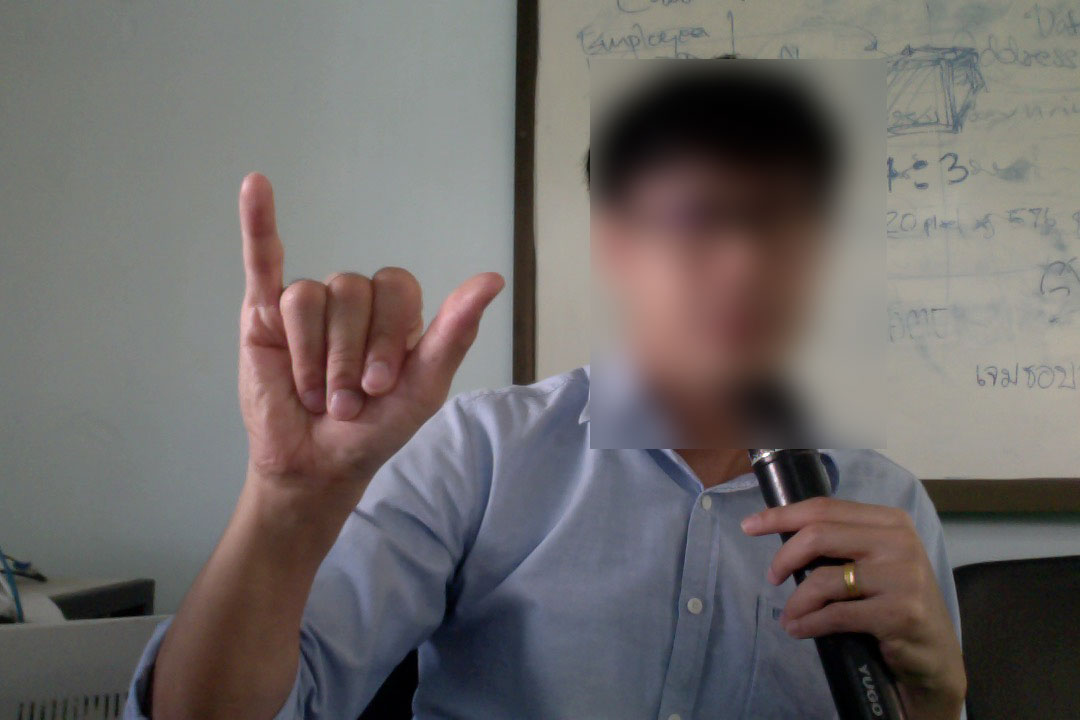yor: (219, 157, 512, 486)
